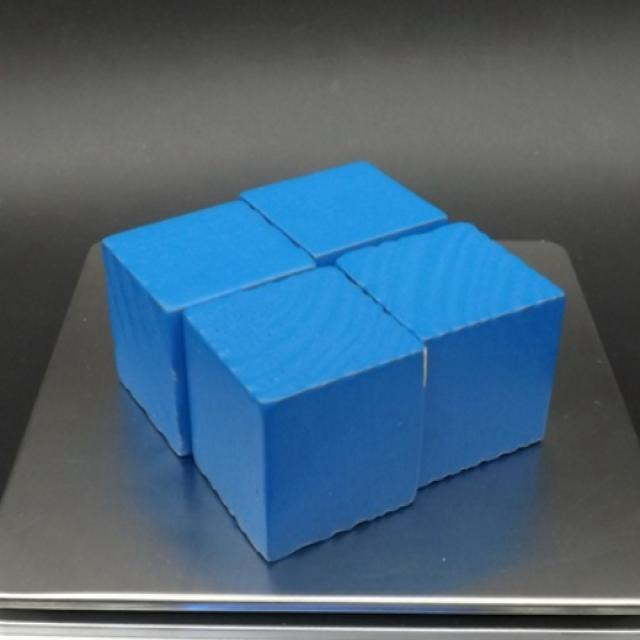bluecube: (181, 266, 429, 562), (332, 219, 566, 489), (102, 197, 318, 457), (238, 157, 449, 269)
